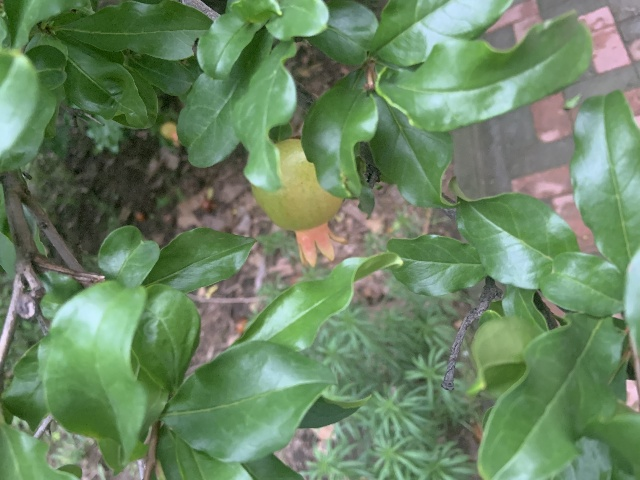mid-growth: (250, 138, 346, 267), (159, 122, 180, 146)
